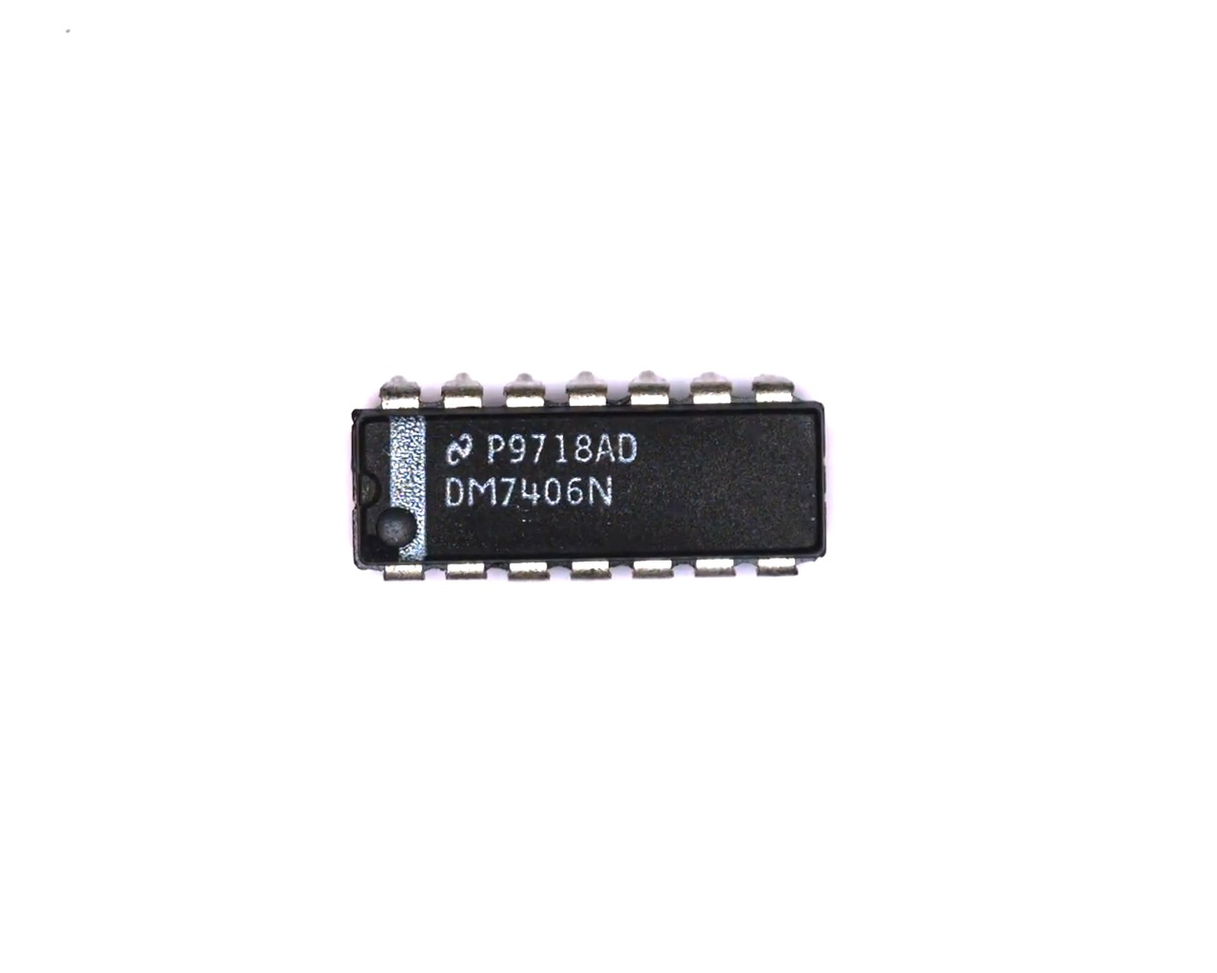IC: (343, 367, 833, 591)
notch: (347, 467, 384, 511)
